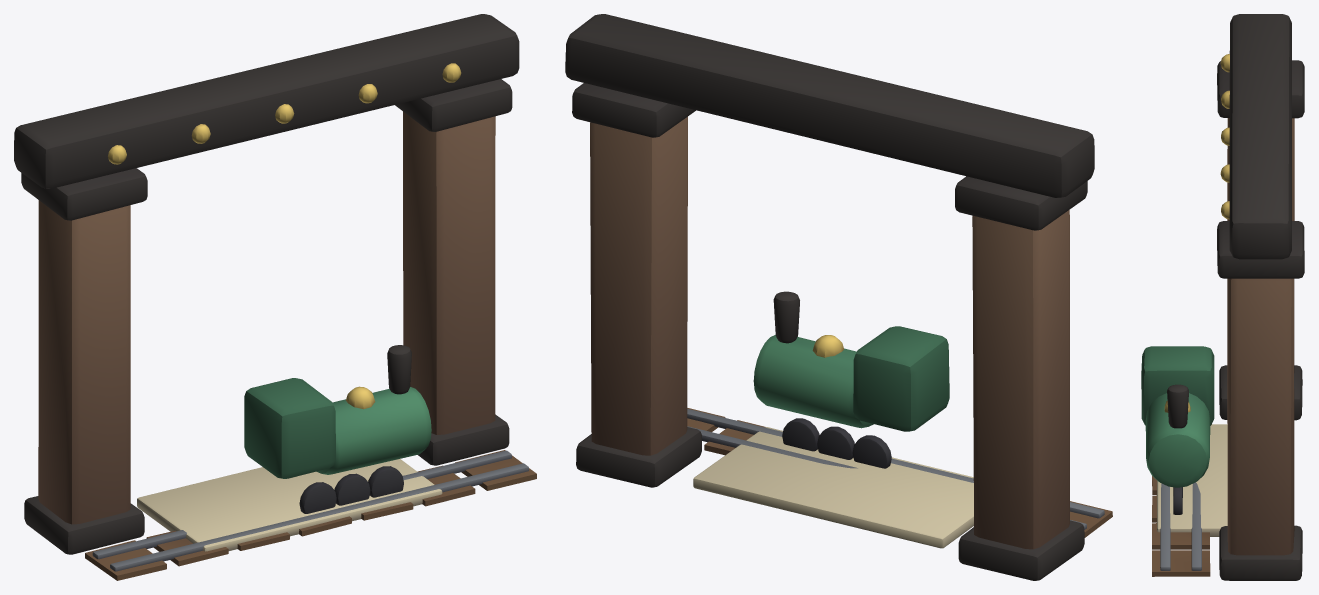
3 renders of one model, left to right at view 1: azimuth 30°, elevation 25°; view 2: azimuth 150°, elevation 25°; view 3: azimuth 270°, elevation 25°, orthographic. The views are drawn at different scales.
Parts seen in each view (by area): view 1: gate_2fafd8d6; view 2: gate_2fafd8d6; view 3: gate_2fafd8d6.
Part boxes in pixels (bbox=[...]): gate_2fafd8d6: bbox=[14, 14, 536, 580]; gate_2fafd8d6: bbox=[565, 14, 1112, 580]; gate_2fafd8d6: bbox=[1141, 14, 1304, 580].
Bounding box in the file's own units: 4.82 × 3.94 × 1.58.
